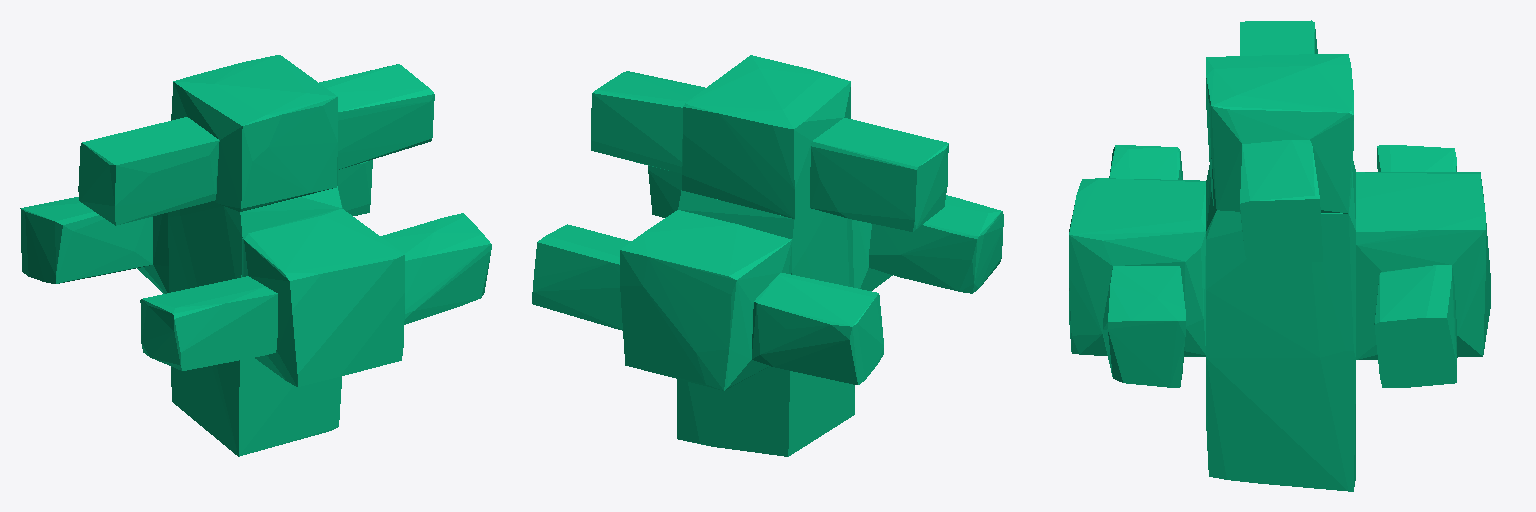
URDF robot description (blob430):
<robot name="blob430">
  <link name="random_obj_430">
    <contact>
      <lateral_friction value="1.0"/>
      <rolling_friction value="0.0"/>
      <inertia_scaling value="3.0"/>
      <contact_cfm value="0.0"/>
      <contact_erp value="1.0"/>
    </contact>
    <inertial>
      <origin rpy="0 0 0" xyz="0 0 0"/>
      <mass value="0.1"/>
      <inertia ixx="1" ixy="0" ixz="0" iyy="1" iyz="0" izz="0"/>
    </inertial>
    <visual>
      <origin rpy="0 0 0" xyz="0 0 0"/>
      <geometry>
        <mesh filename="430.obj" scale="0.015 0.015 0.015"/>
      </geometry>
      <material name="blockmat">
        <color rgba="0.08 0.79 0.57 1"/>
      </material>
    </visual>
    <collision>
      <origin rpy="0 0 0" xyz="0 0 0"/>
      <geometry>
        <mesh filename="430.obj" scale="0.015 0.015 0.015"/>
      </geometry>
    </collision>
  </link>
</robot>

--- What the picture shows (computed from the rendered views, not written in the file) ---
3 views of the same robot in one strip: view 1: azimuth 30°, elevation 25°; view 2: azimuth 150°, elevation 25°; view 3: azimuth 270°, elevation 25° (orthographic).
Model blob430 with 1 links and 0 joints (none), rooted at random_obj_430, posed every joint at zero.
Visible links, largest first — view 1: random_obj_430; view 2: random_obj_430; view 3: random_obj_430.
Link boxes in pixels (x1,y1,x2,y2): random_obj_430: [20, 55, 491, 456]; random_obj_430: [532, 55, 1003, 456]; random_obj_430: [1069, 20, 1490, 491].
Size in the robot's own frame: 0.0931 by 0.0931 by 0.0926 metres.
1 mesh visuals loaded from 1 distinct referenced files (1 OBJ).